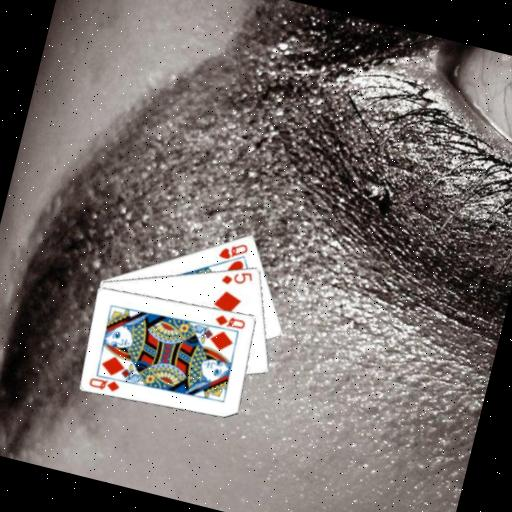5D: (218, 263, 256, 292)
QD: (85, 371, 123, 395), (211, 310, 248, 333)
QH: (215, 234, 252, 265)
